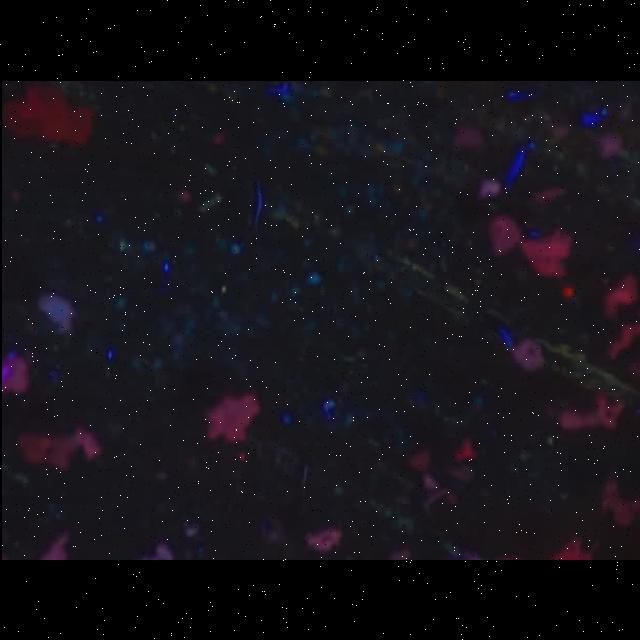Fragment: (204, 394, 259, 443)
